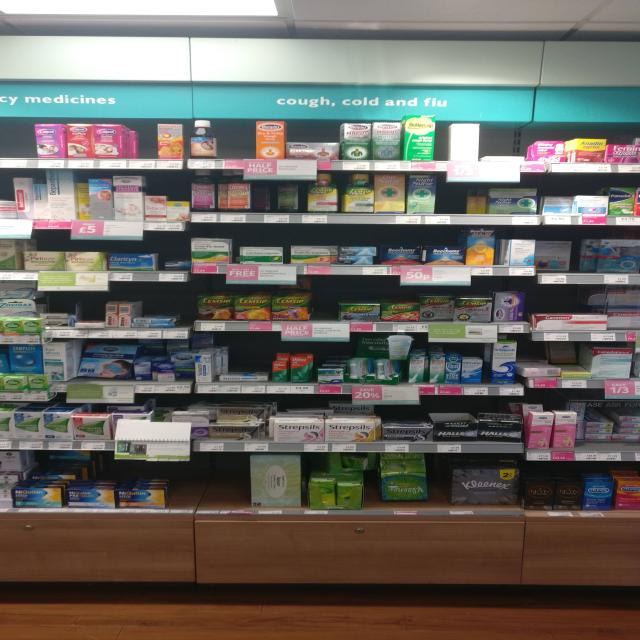void: (207, 452, 250, 519), (172, 458, 201, 518), (220, 119, 252, 170), (0, 121, 31, 169), (125, 122, 156, 170), (442, 174, 466, 225), (308, 294, 333, 334)
